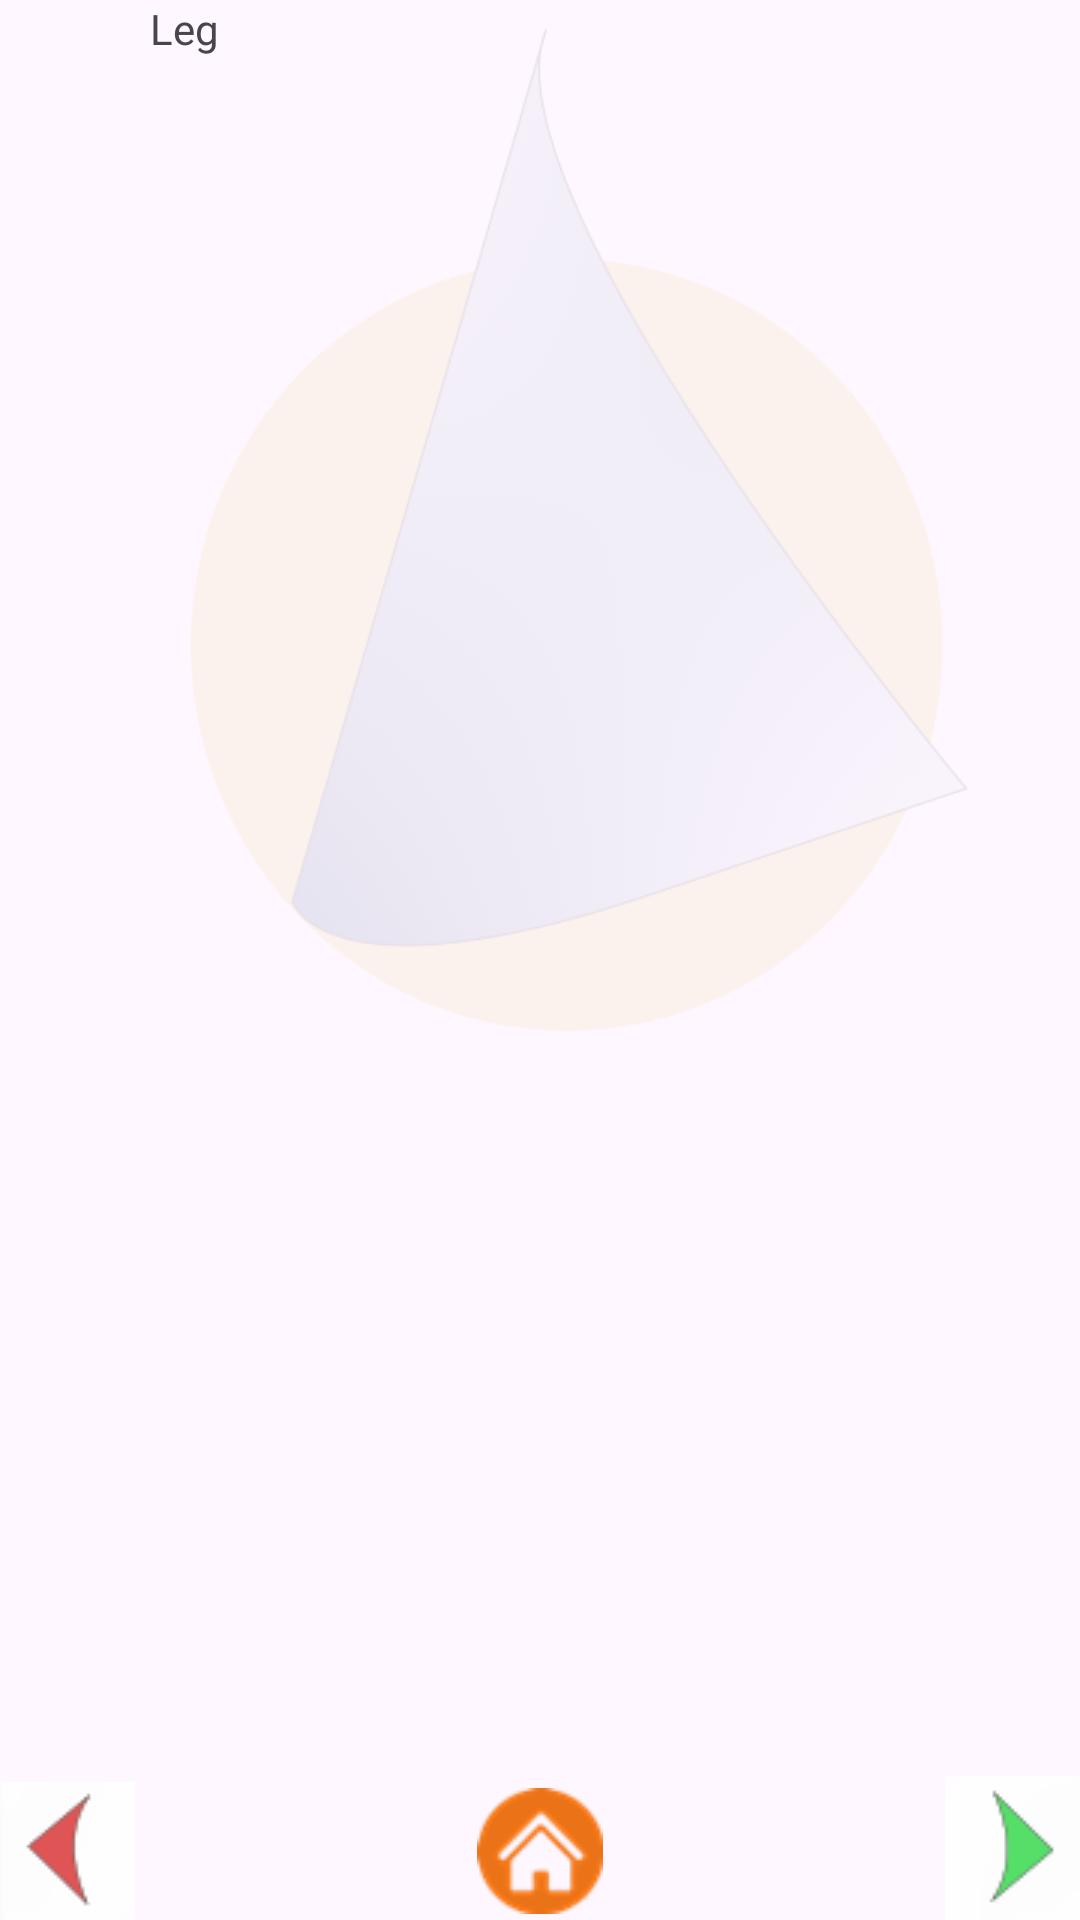

Icon bounding boxes for this 1080px×1920px phone screenshot, format (x1, y1, x2, y2):
Home: (477, 1788, 603, 1914)
Left Nav: (26, 1793, 91, 1905)
Right Nav: (990, 1790, 1054, 1902)
